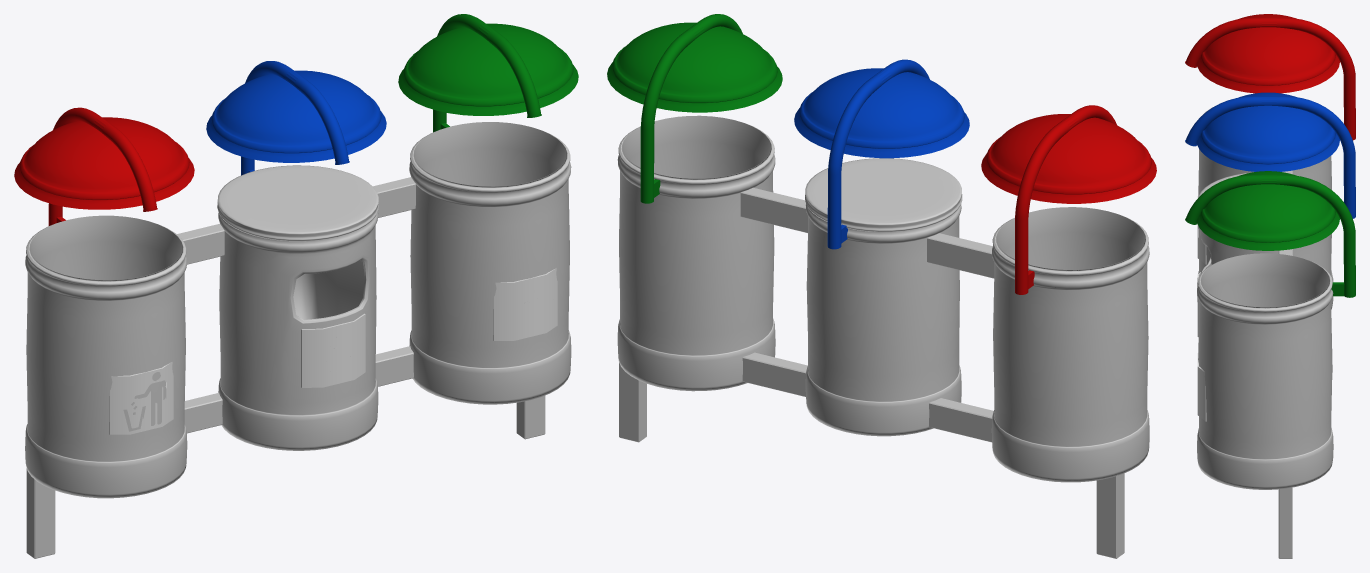
The model's file is trashbins.fbx.
3 renders of one model, left to right at view 1: azimuth 30°, elevation 25°; view 2: azimuth 150°, elevation 25°; view 3: azimuth 270°, elevation 25°, orthographic. The views are drawn at different scales.
Parts seen in each view (by area): view 1: polySurface13; view 2: polySurface13; view 3: polySurface13.
Part boxes in pixels (x1=…): polySurface13: x1=14, y1=14, x2=578, y2=558; polySurface13: x1=607, y1=14, x2=1156, y2=558; polySurface13: x1=1185, y1=14, x2=1355, y2=558.
Size of the model in its own units: 212 by 68.98 by 159.
